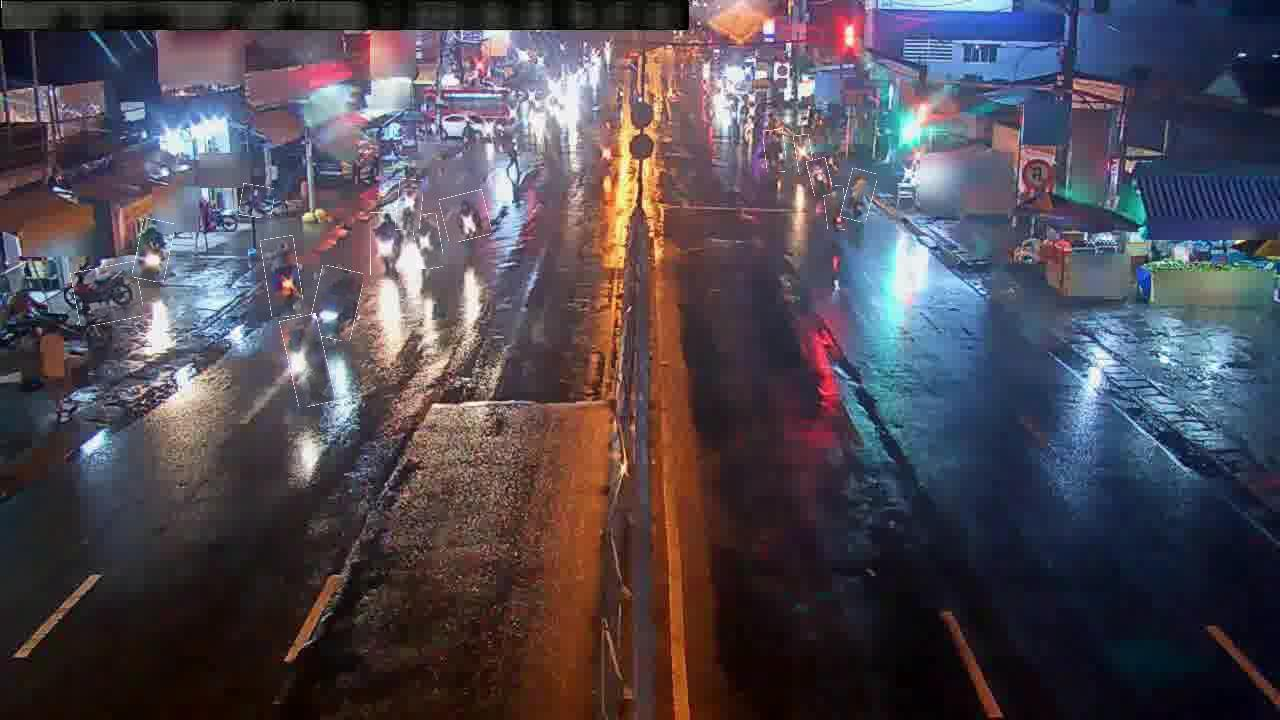motorbike: (284, 315, 331, 407), (73, 264, 142, 325), (311, 267, 361, 341), (263, 236, 302, 317), (135, 220, 173, 282), (442, 192, 490, 241), (371, 212, 403, 281), (843, 170, 875, 222), (413, 214, 442, 270), (397, 179, 423, 231), (240, 185, 274, 218), (825, 186, 847, 231), (764, 130, 786, 173), (808, 158, 831, 197), (795, 135, 813, 176)
